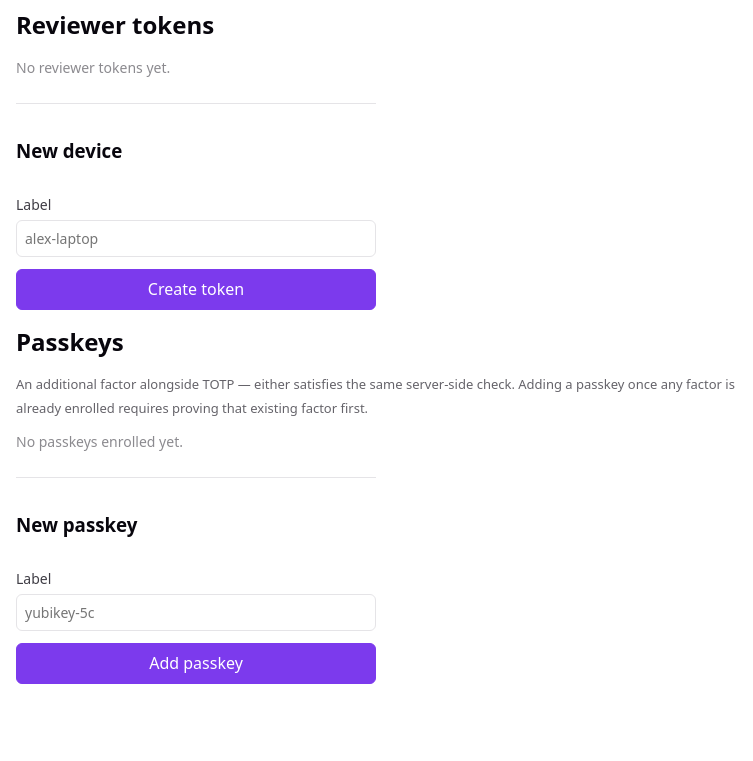
Test: TokensPage (Passkeys section) — supported browser › registers a first passkey: prompts for the device's TOTP code, drives navigator.credentials.create, and posts the result
Expected: the list item "No passkeys enrolled yet." is shown, [16,432,183,451]
Type "my-yubikey" into the field with placeholder "yubikey-5c" below "New passkey" at {"x": 196, "y": 612}, box [16,594,376,631]
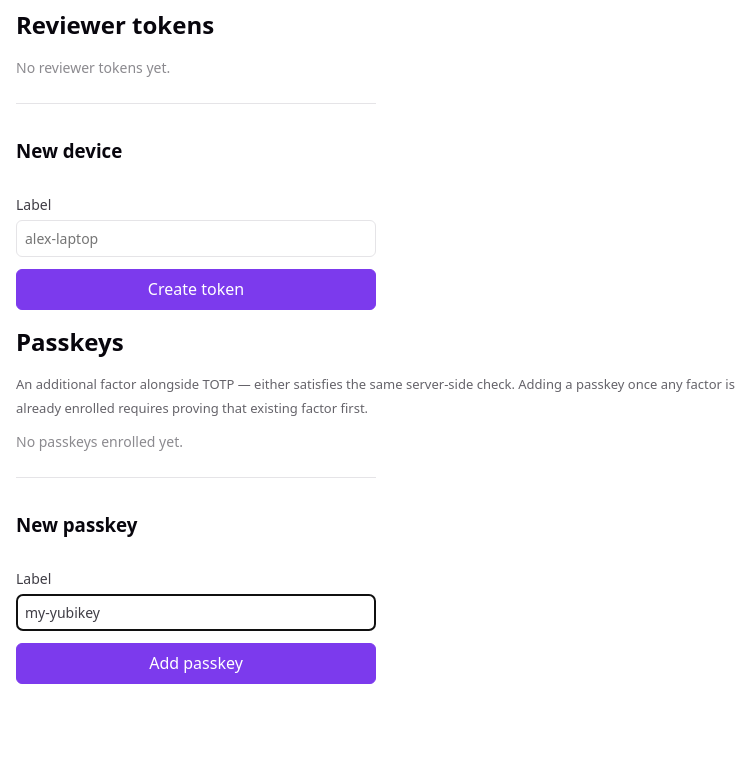
Click the button "Add passkey" at {"x": 196, "y": 664}, box [16,643,376,684]
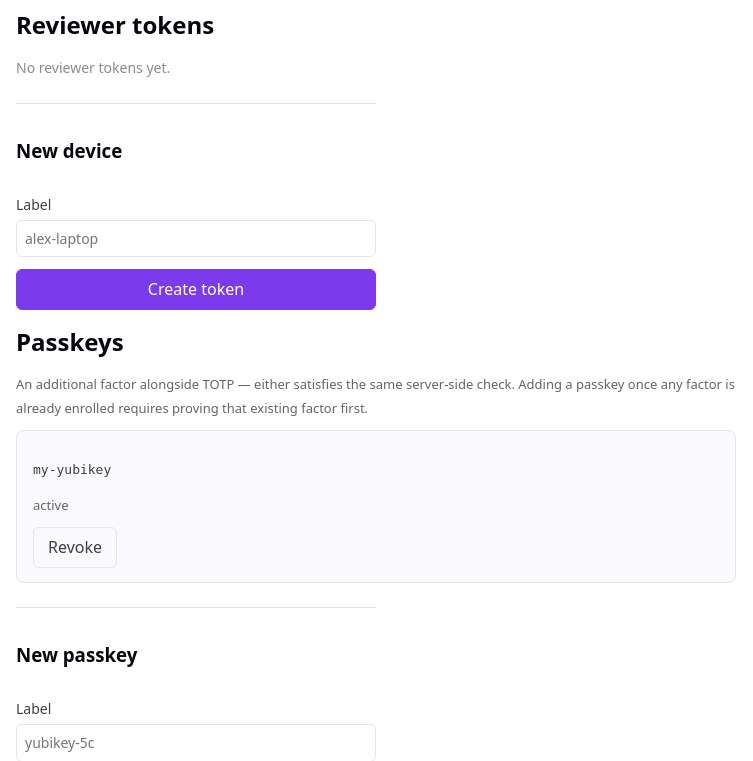
Now the text "my-yubikey" is shown, box [33,462,111,477]
